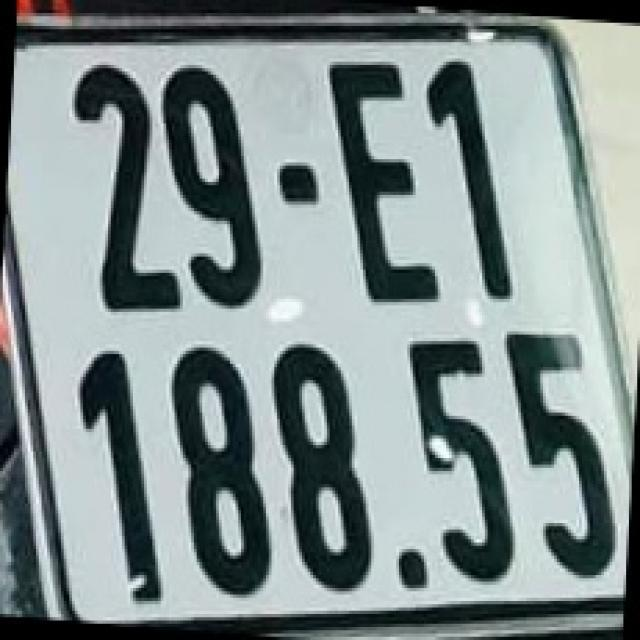1: (426, 49, 526, 302), (74, 344, 164, 604)
2: (68, 52, 184, 322)
5: (407, 331, 518, 585), (510, 328, 620, 582)
8: (172, 338, 274, 601), (274, 338, 377, 594)
9: (160, 58, 268, 306)
E: (326, 48, 444, 306)
